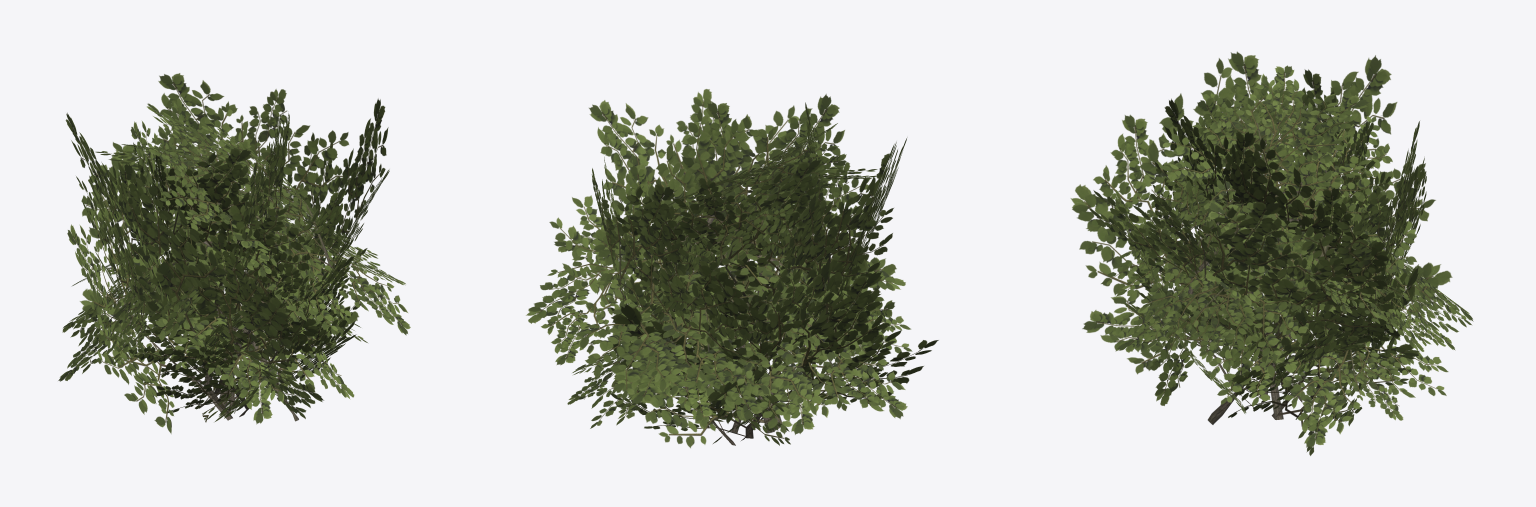
File: bush-2.glb
3 renders of one model, left to right at view 1: azimuth 30°, elevation 25°; view 2: azimuth 150°, elevation 25°; view 3: azimuth 270°, elevation 25°, orthographic. The views are drawn at different scales.
Parts seen in each view (by area): view 1: Bush-02; view 2: Bush-02; view 3: Bush-02.
Part boxes in pixels (x1,y1,x2,y2): Bush-02: [58, 73, 410, 433]; Bush-02: [526, 89, 938, 448]; Bush-02: [1070, 51, 1473, 455].
Bounding box in the file's own units: 1.19 × 0.8779 × 1.27.
5 materials, 5 textured.
